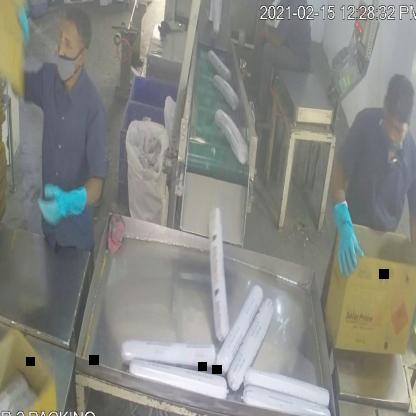glove: (29, 164, 106, 245), (331, 171, 367, 294), (408, 226, 416, 343)
no_glove: (252, 13, 290, 61)
